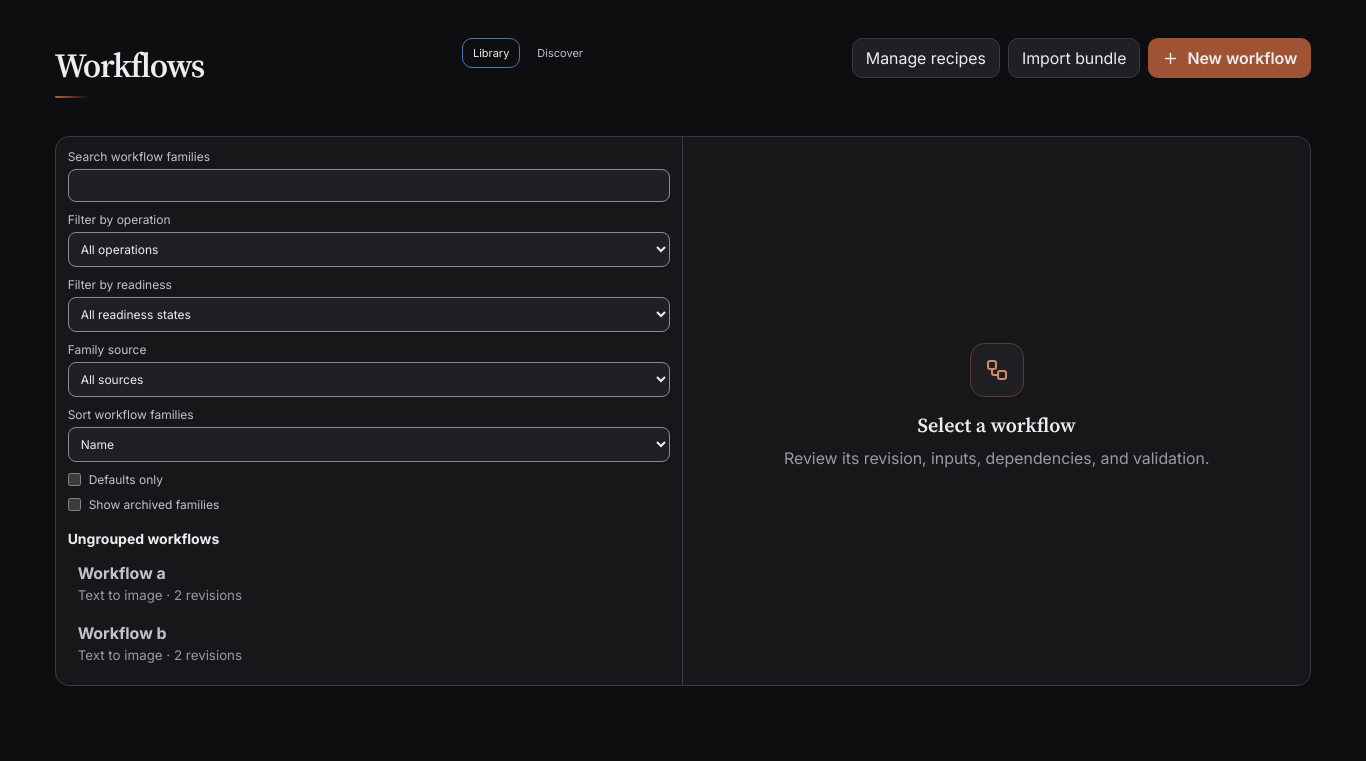
Test: browses summaries without fetching any graph until a workflow is selected
Expected: the text "Text to image · 2 revisions" is shown 2 times, [78,587,242,603]; [78,647,242,663]
Step 1. Click the text "Workflow a" → coordinates (122, 573), box [78,563,166,583]
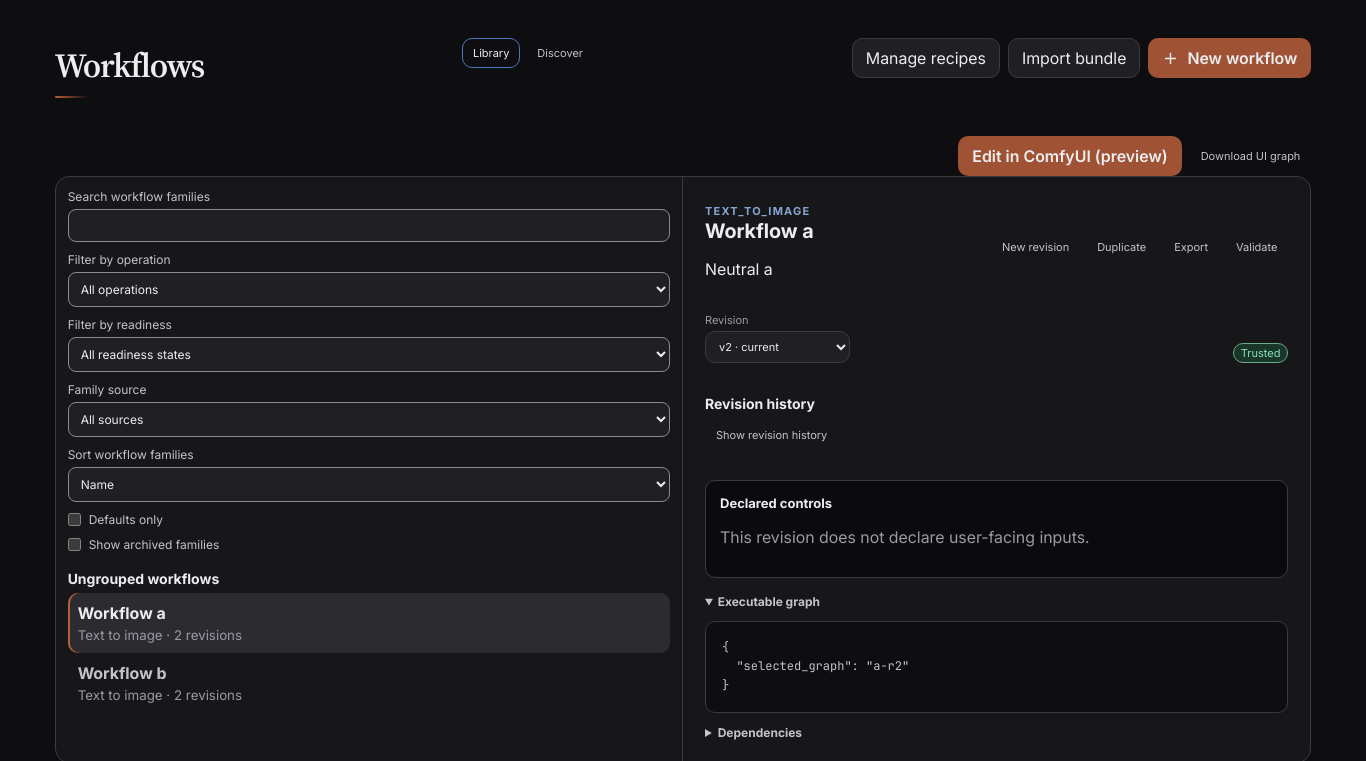
Now the button "New revision" is shown, box [991,232,1080,262]
Now the text "{ \"selected_graph\": \"a-r2\" }" is shown, box [705,621,1288,713]
Step 2. Select "v1" in the dropdown labelled "Revision" → coordinates (778, 347), box [705,331,850,363]
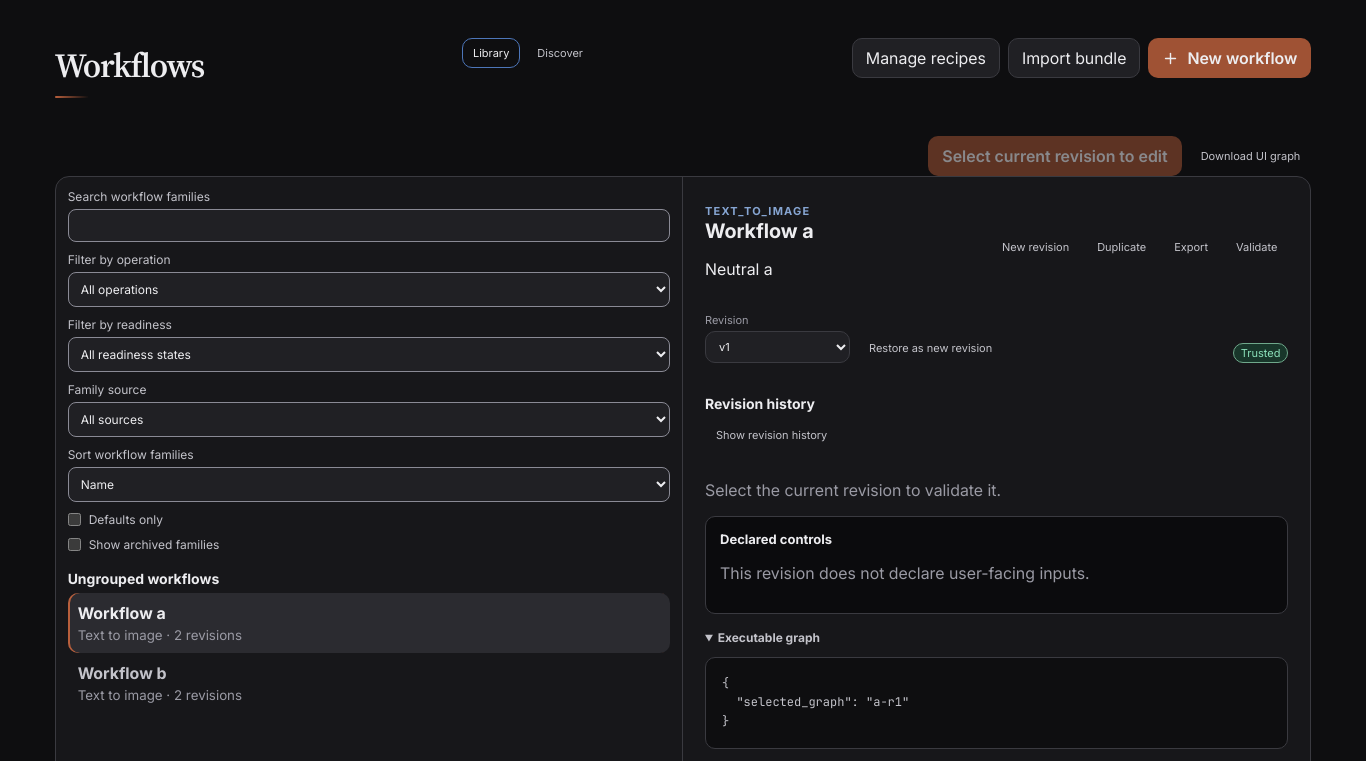
Expected: the button "Validate" is disabled, [1225,232,1288,262]
Now the text "{ \"selected_graph\": \"a-r1\" }" is shown, box [705,657,1288,749]
